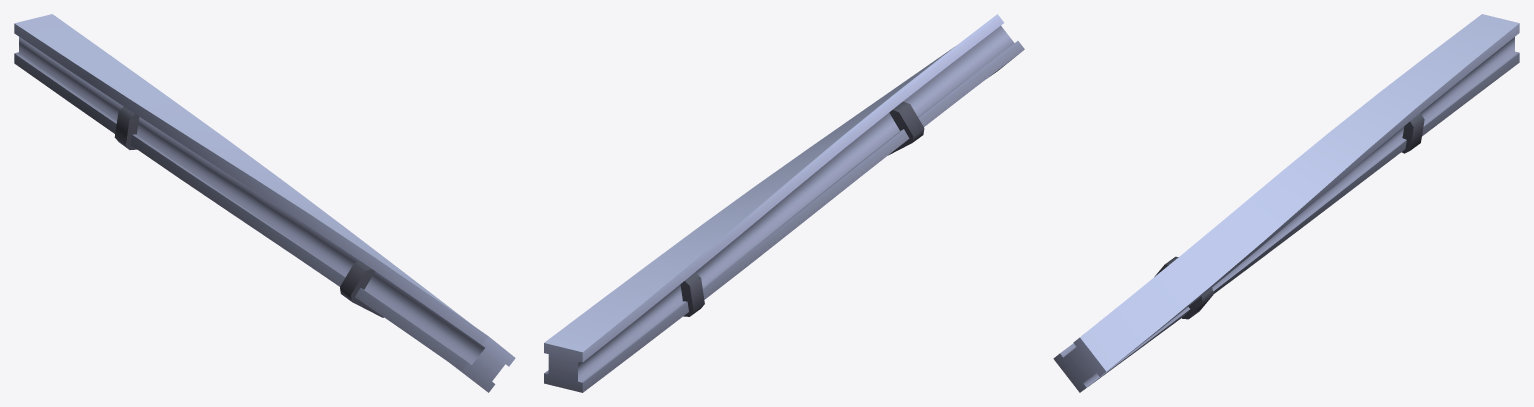
File: coaster-monorail-straight-skew-left.glb
3 renders of one model, left to right at view 1: azimuth 30°, elevation 25°; view 2: azimuth 150°, elevation 25°; view 3: azimuth 330°, elevation 25°, orthographic. The views are drawn at different scales.
Visible parts, largest first — view 1: coaster-monorail-straight-skew-left; view 2: coaster-monorail-straight-skew-left; view 3: coaster-monorail-straight-skew-left.
Part boxes in pixels (<box>): coaster-monorail-straight-skew-left: <box>14,14,515,392</box>; coaster-monorail-straight-skew-left: <box>544,14,1024,392</box>; coaster-monorail-straight-skew-left: <box>1053,14,1519,392</box>.
Size of the model in its own units: 0.3355 by 0.3023 by 4.
1 material, 1 textured.
